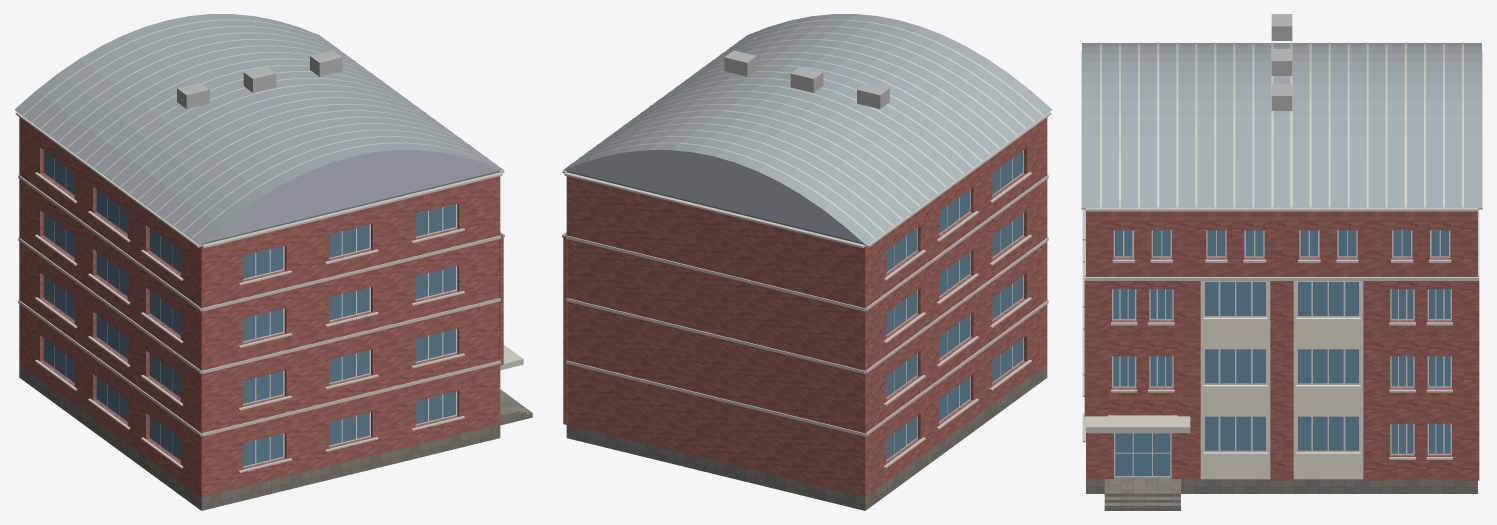
The picture shows the model from 3 angles, left to right: view 1: azimuth 30°, elevation 25°; view 2: azimuth 150°, elevation 25°; view 3: azimuth 270°, elevation 25°; orthographic projection. The views are drawn at different scales.
Visible parts, largest first — view 1: eastend__rbrick, eastend__barrel, eastend__cap, eastend__sideglass, eastend__concrete, eastend__stone, eastend__frame, eastend__unit, eastend__roof; view 2: eastend__rbrick, eastend__barrel, eastend__cap, eastend__concrete, eastend__sideglass, eastend__stone, eastend__unit, eastend__frame, eastend__roof; view 3: eastend__rbrick, eastend__barrel, eastend__glass, eastend__cap, eastend__spandrel, eastend__frame, eastend__stone, eastend__unit, eastend__stair-front, eastend__threshold-front.
Boxes of the visible parts, x1,y1,x2,y2 form: eastend__rbrick: (19,117,503,496); eastend__barrel: (14,14,504,245); eastend__cap: (15,19,523,472); eastend__sideglass: (43,151,455,466); eastend__concrete: (204,150,502,242); eastend__stone: (19,364,500,510); eastend__frame: (43,150,457,467); eastend__unit: (177,50,342,108); eastend__roof: (201,171,500,244); eastend__rbrick: (563,117,1047,497); eastend__barrel: (562,14,1052,245); eastend__cap: (562,19,1051,468); eastend__concrete: (564,150,862,242); eastend__sideglass: (886,151,1023,459); eastend__stone: (566,364,1047,510); eastend__unit: (724,50,889,108); eastend__frame: (886,150,1023,460); eastend__roof: (566,171,865,244); eastend__rbrick: (1084,211,1479,480); eastend__barrel: (1082,43,1481,207); eastend__glass: (1113,230,1450,475); eastend__cap: (1081,42,1482,459); eastend__spandrel: (1200,281,1363,479); eastend__frame: (1112,230,1451,477); eastend__stone: (1086,479,1477,493); eastend__unit: (1271,14,1292,110); eastend__stair-front: (1104,490,1180,510); eastend__threshold-front: (1104,477,1180,490).
Bounding box in the file's own units: 20.7 × 19.29 × 19.46.
Materials: 11 (2 with a texture image).
